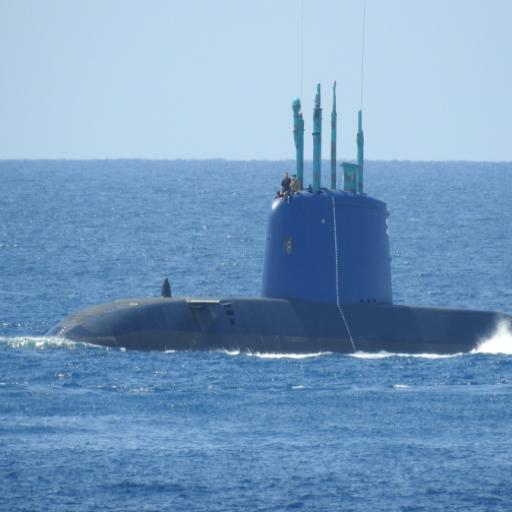submarine: (43, 78, 512, 344)
